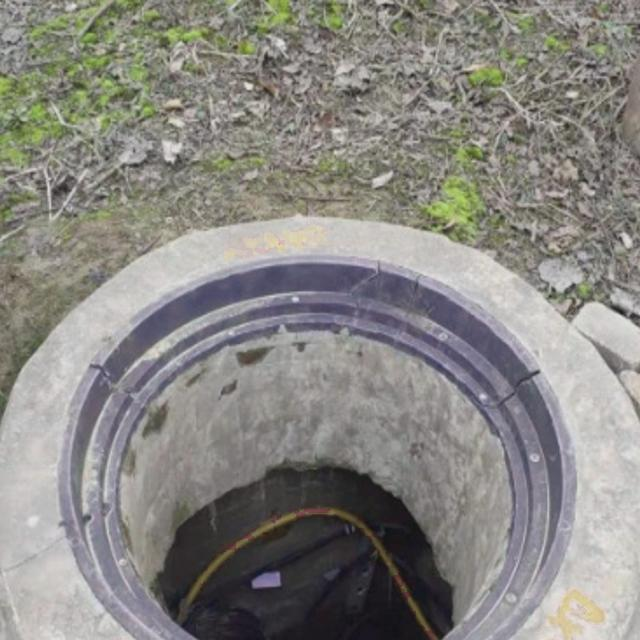lose: (64, 252, 576, 640)
